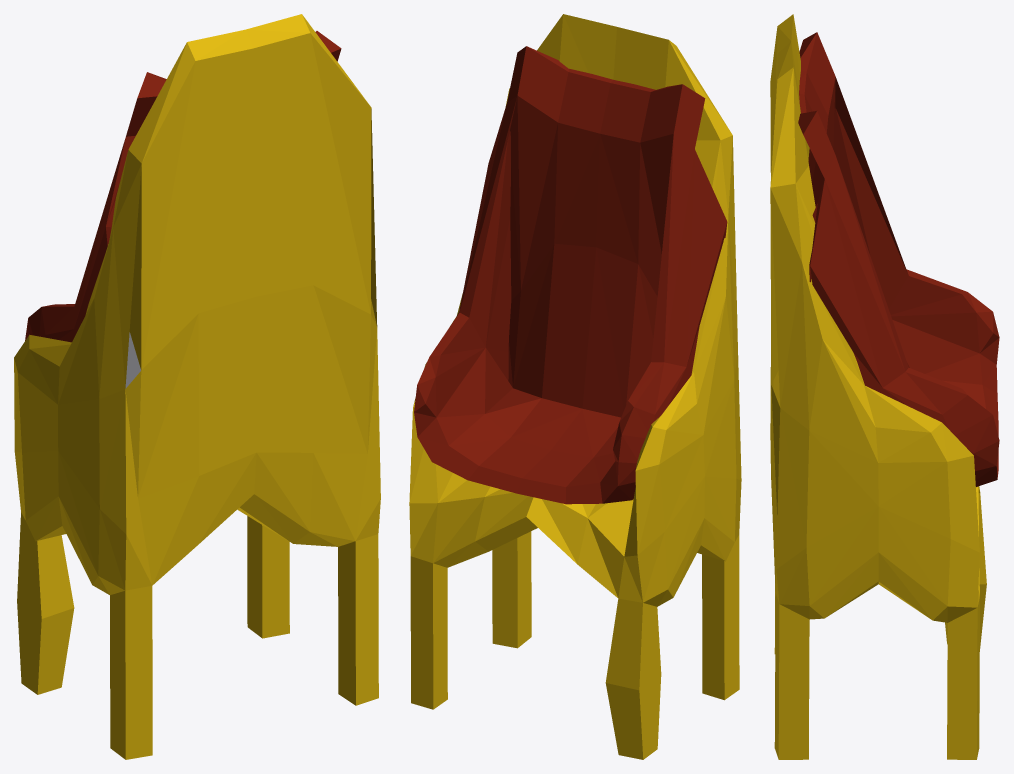
File: chairTile.glb
3 renders of one model, left to right at view 1: azimuth 30°, elevation 25°; view 2: azimuth 150°, elevation 25°; view 3: azimuth 270°, elevation 25°, orthographic. The views are drawn at different scales.
Parts seen in each view (by area): view 1: Cube; view 2: Cube; view 3: Cube.
Part boxes in pixels (x1=…): Cube: x1=14, y1=14, x2=380, y2=759; Cube: x1=409, y1=14, x2=741, y2=759; Cube: x1=770, y1=14, x2=999, y2=759.
Size of the model in its own units: 0.4255 by 0.9993 by 0.3141.
1 material, 1 textured.
